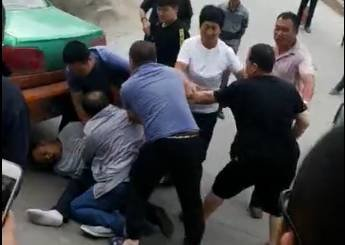fall: (27, 108, 140, 239)
